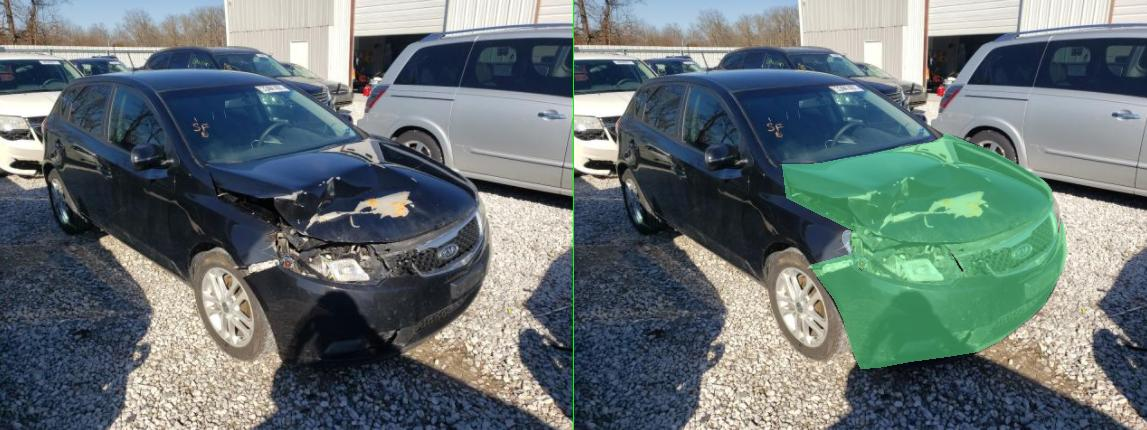Broken part: (470, 219, 985, 368), (416, 133, 959, 249), (747, 208, 969, 276), (552, 224, 781, 288)
Corrosion: (685, 190, 833, 222), (536, 230, 556, 254)
Dent: (544, 178, 743, 225)
Paint chip: (811, 173, 851, 192), (695, 221, 727, 233)
Scratch: (621, 211, 689, 224), (562, 191, 609, 203)
